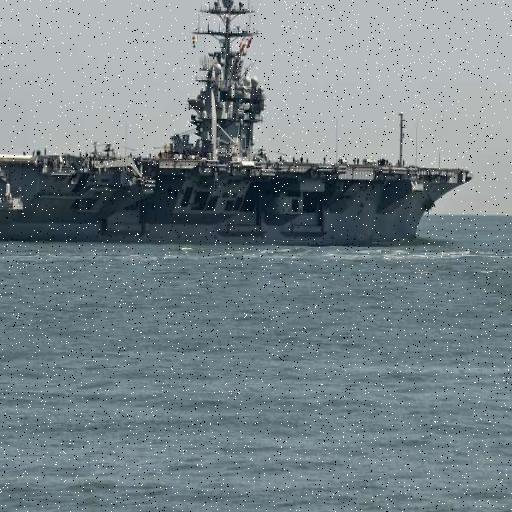Portanaves: (1, 1, 481, 248)
